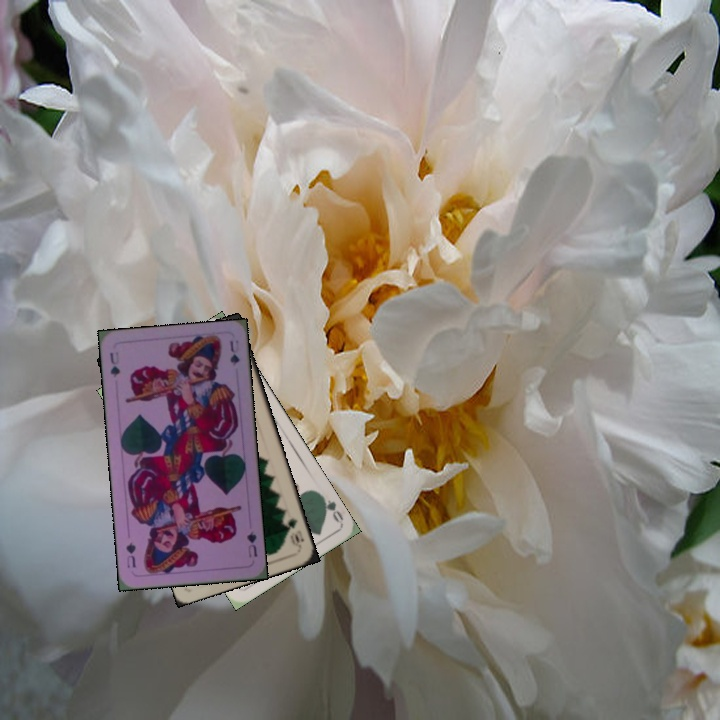G10: (282, 514, 304, 550)
GO: (316, 490, 346, 526)
GU: (243, 527, 259, 560), (106, 348, 122, 380)
